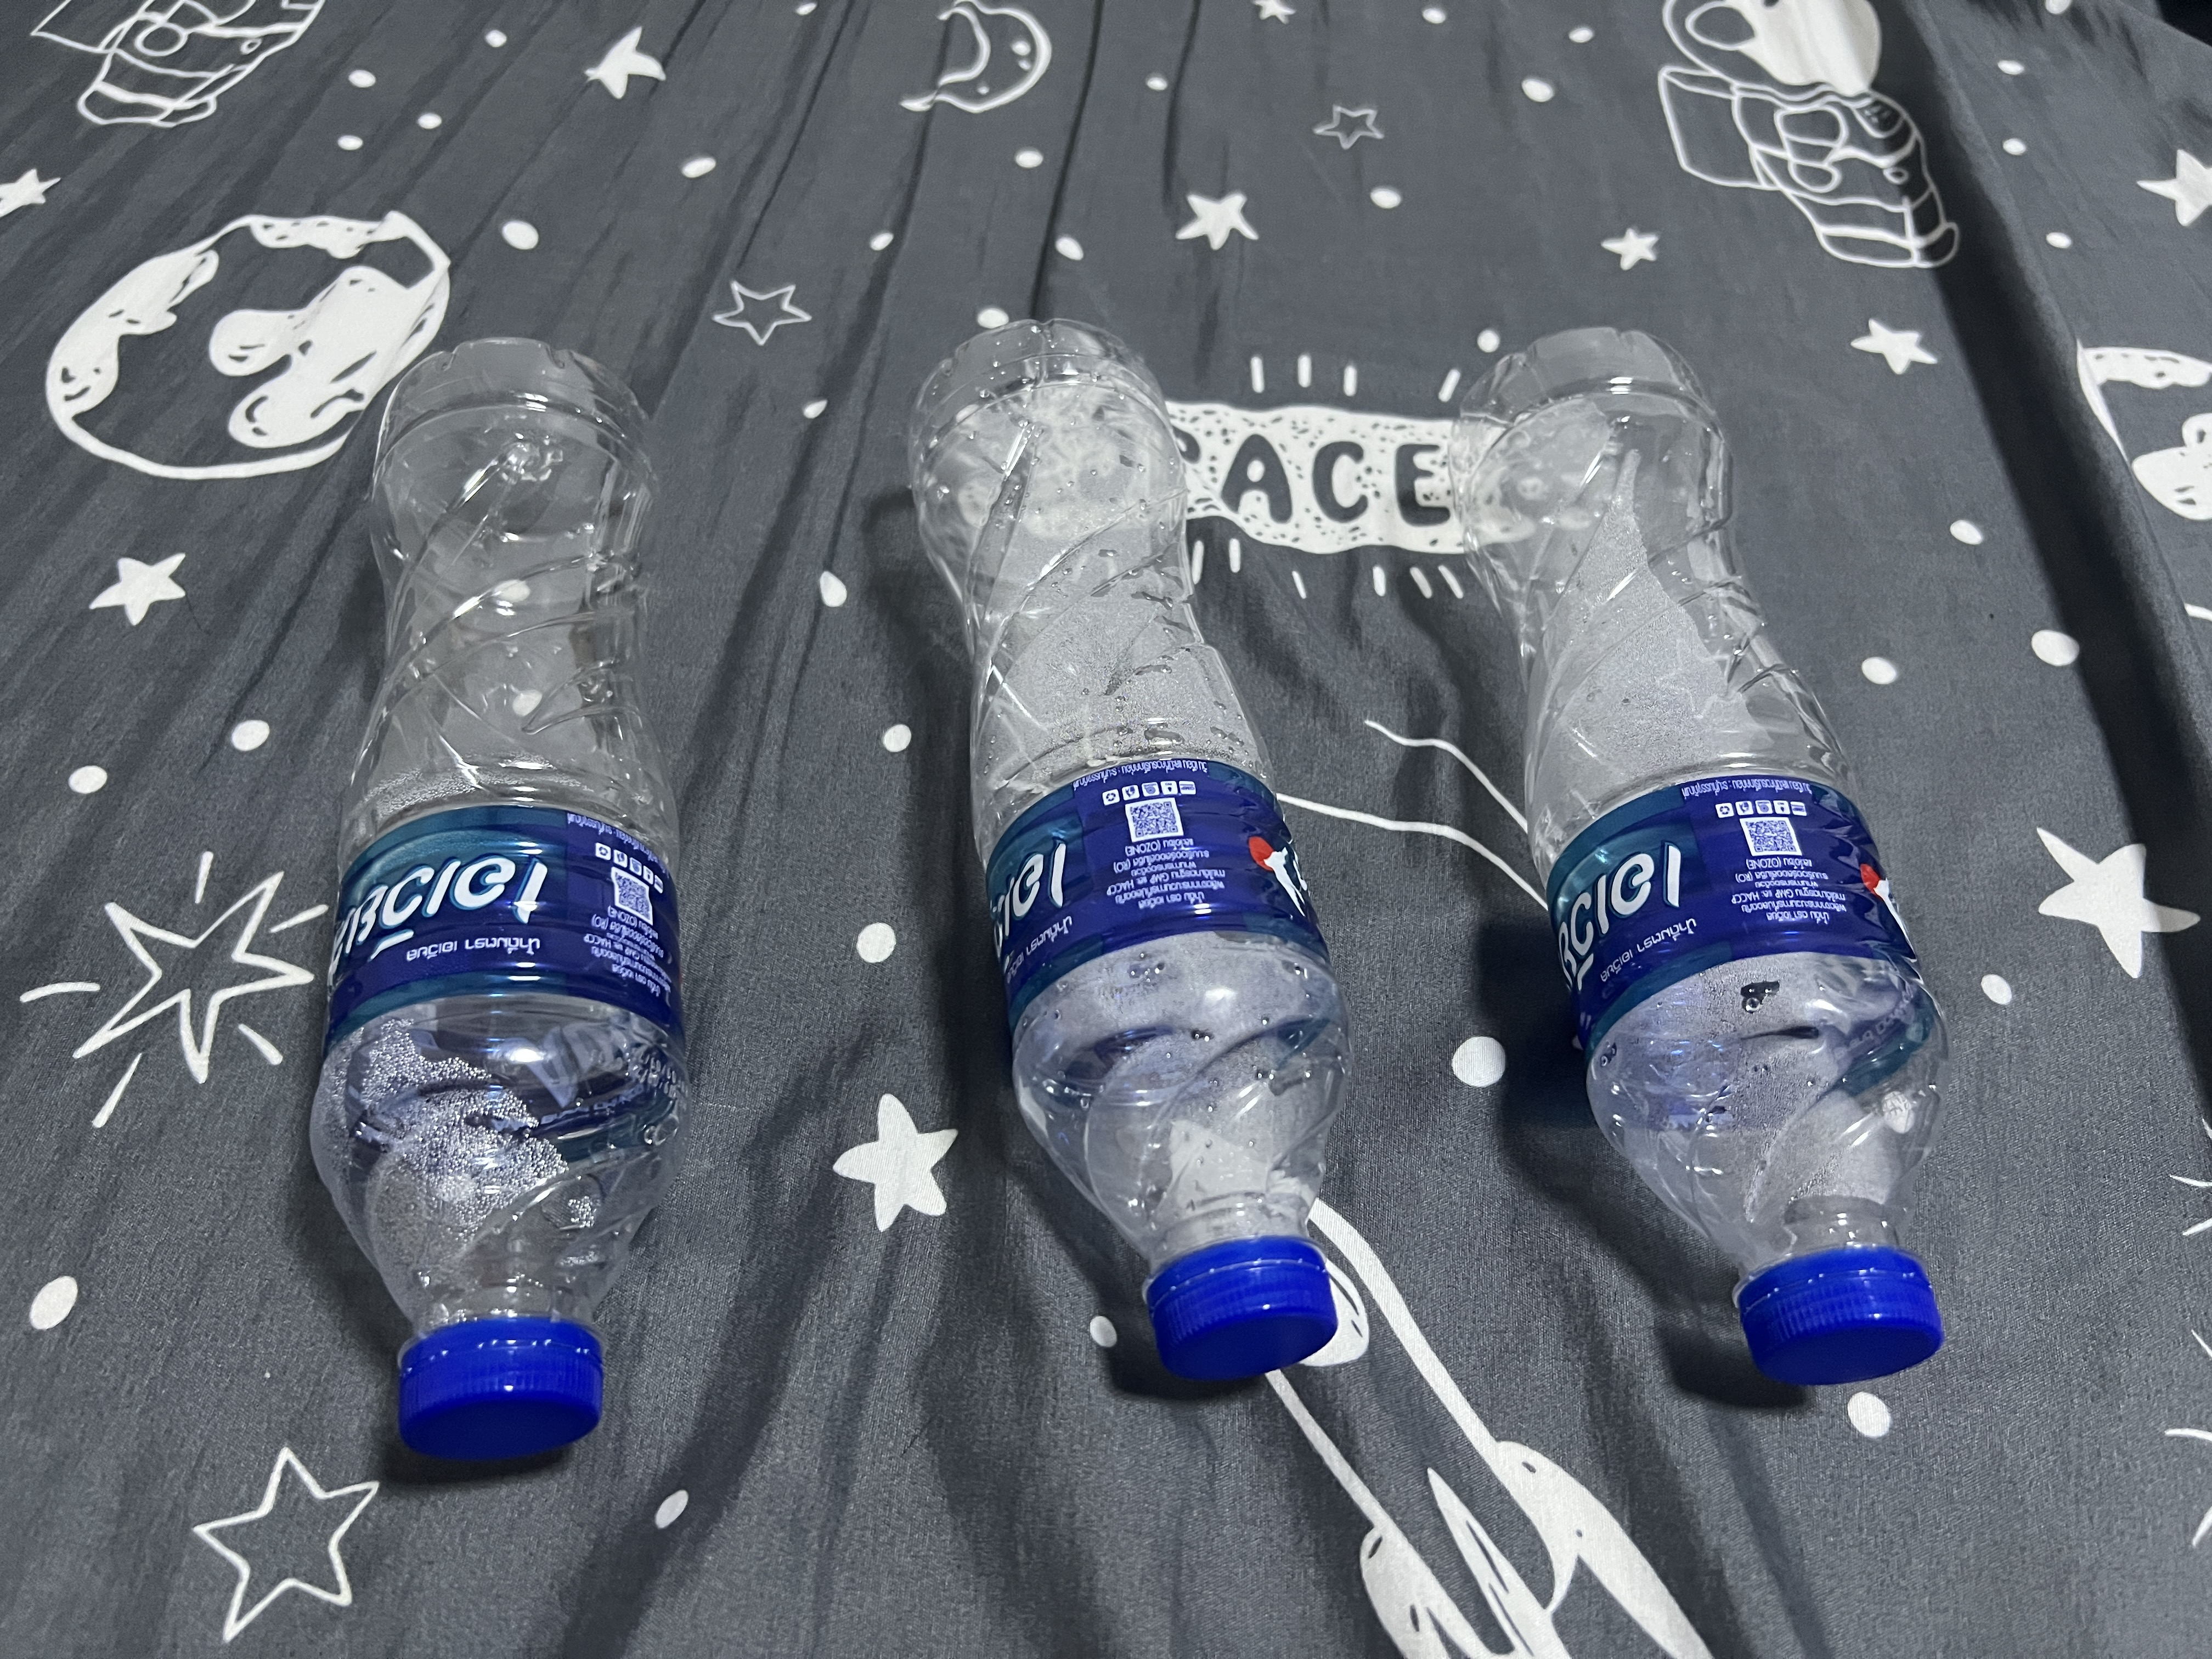plastic_bottle: (1395, 265, 1973, 1413), (876, 295, 1362, 1436), (314, 305, 725, 1504)
